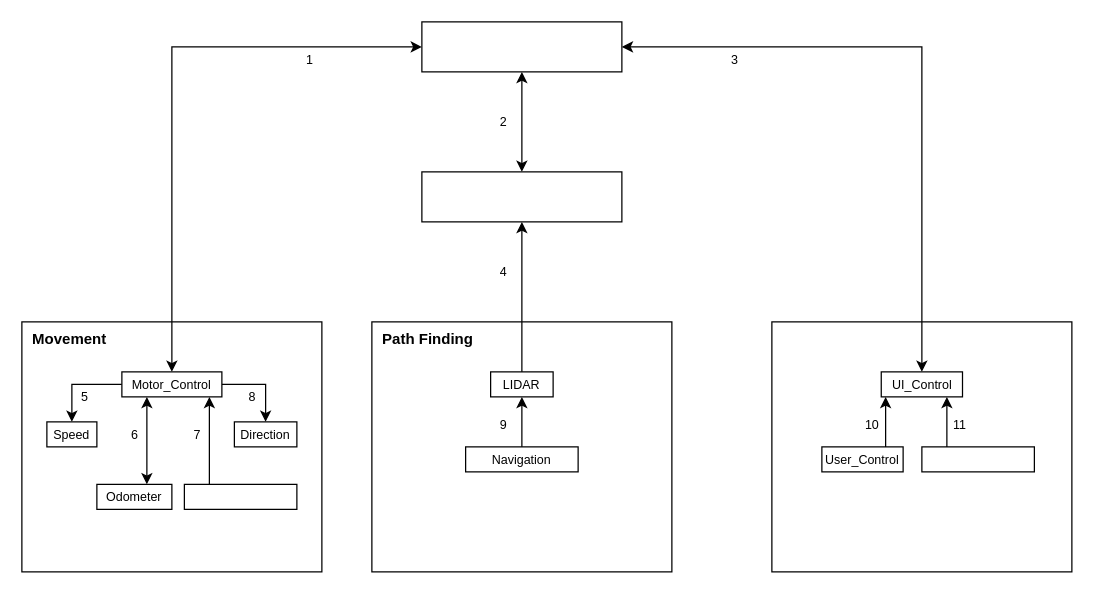
Image size: 1094x594. Some labels were removed from this diagram. The shapes that lost their labels are listed below. From the top down, each one's box as (x1, y1, x2, y2) in pixels, then its label:
(421, 21, 622, 72): Raspberry Pi
(421, 171, 622, 222): TM4C
(771, 321, 1072, 572): Interface
(921, 446, 1034, 472): Algorithm_Upload
(183, 483, 297, 509): Crash_Prevention
